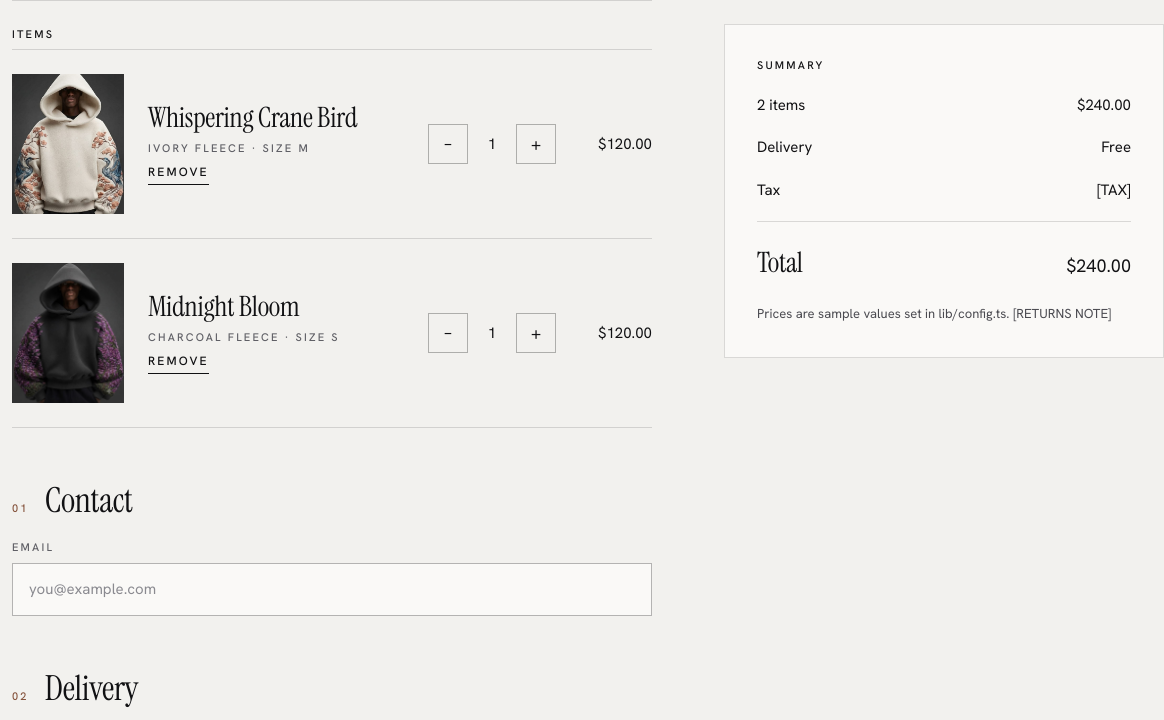
Test: removing lines › removes only the chosen line
Click the button "Remove" below "Ivory" at (178, 175), box [148,164,209,185]
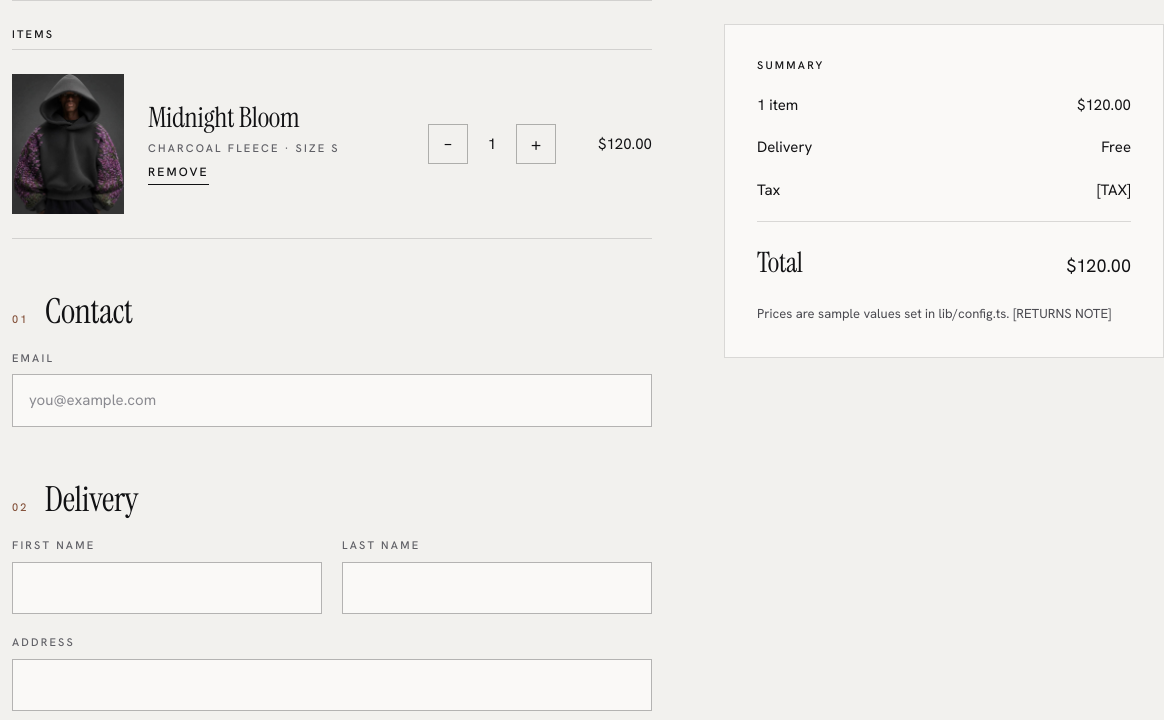
expect the text "Midnight Bloom" is shown: met, box [148,98,299,136]
expect the text "Whispering Crane Bird" is gone: met
